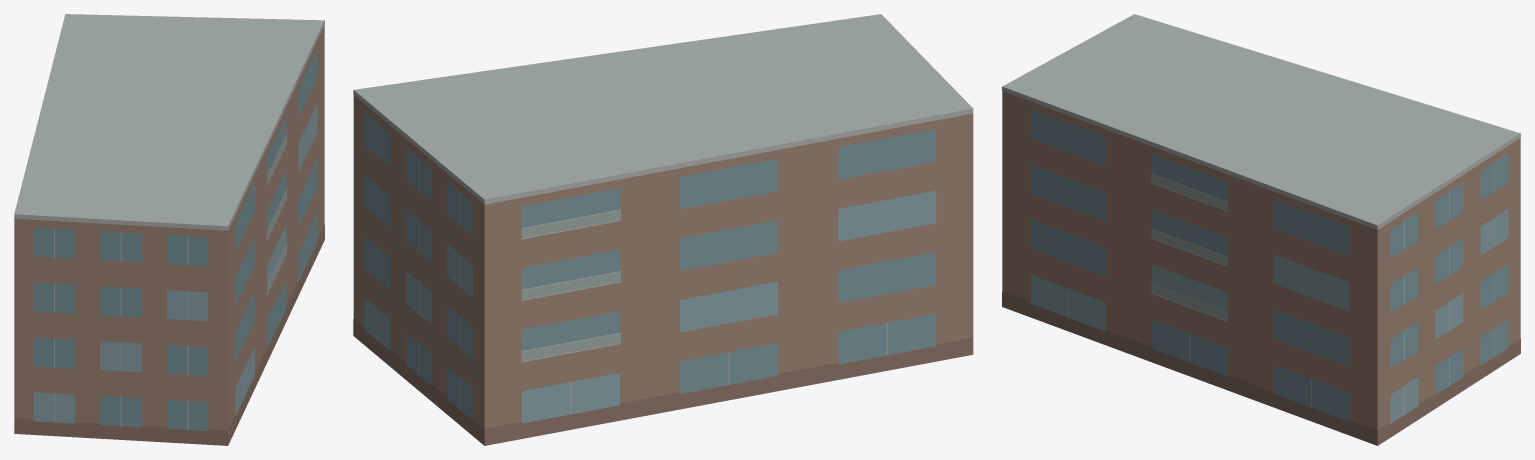
The model's file is residential-bb25ca02-2361-4174-a1a9-93d42a5adc18.glb.
3 views of the same model, side by side, from view 1: azimuth 30°, elevation 25°; view 2: azimuth 150°, elevation 25°; view 3: azimuth 270°, elevation 25° (orthographic). The views are drawn at different scales.
Parts seen in each view (by area): view 1: residential-bb25ca02-2361-4174-a1a9-93d42a5adc18.tmp; view 2: residential-bb25ca02-2361-4174-a1a9-93d42a5adc18.tmp; view 3: residential-bb25ca02-2361-4174-a1a9-93d42a5adc18.tmp.
Boxes of the visible parts, <box> form: residential-bb25ca02-2361-4174-a1a9-93d42a5adc18.tmp: <box>14,14,324,445</box>; residential-bb25ca02-2361-4174-a1a9-93d42a5adc18.tmp: <box>353,14,973,445</box>; residential-bb25ca02-2361-4174-a1a9-93d42a5adc18.tmp: <box>1002,14,1520,445</box>.
Size of the model in its own units: 25.12 by 12.2 by 26.03.
